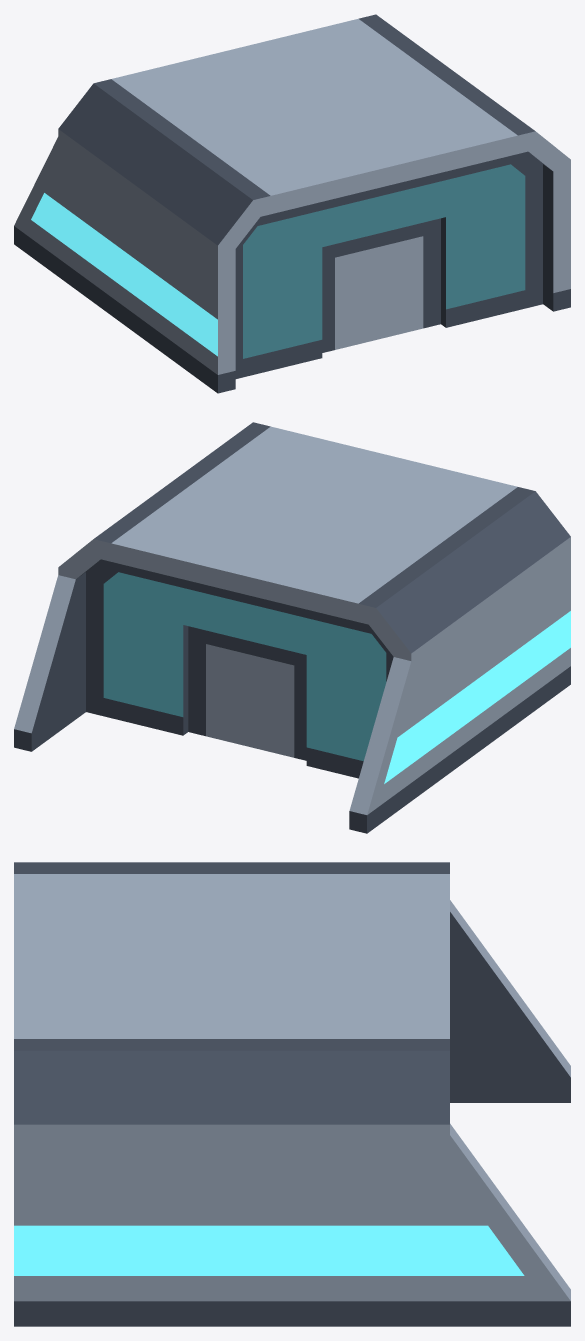
File: hangar_smallB.glb
The picture shows the model from 3 angles, top to bottom: view 1: azimuth 30°, elevation 25°; view 2: azimuth 150°, elevation 25°; view 3: azimuth 270°, elevation 25°; orthographic projection. The views are drawn at different scales.
Visible parts, largest first — view 1: hangar_smallB, gate; view 2: hangar_smallB, gate.001; view 3: hangar_smallB.
Boxes of the visible parts, x1,y1,x2,y2 form: hangar_smallB: [14, 14, 570, 393]; gate: [235, 151, 542, 378]; hangar_smallB: [14, 422, 570, 833]; gate.001: [86, 559, 393, 778]; hangar_smallB: [14, 862, 570, 1326].
Size of the model in its own units: 2 by 1 by 2.
